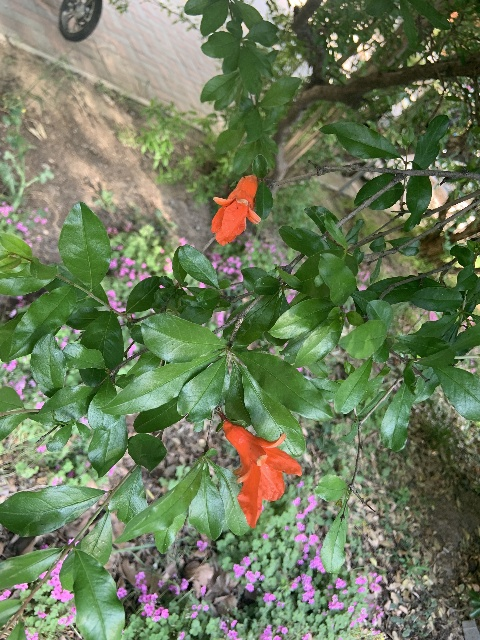flower: (223, 421, 301, 526), (210, 173, 260, 246)
